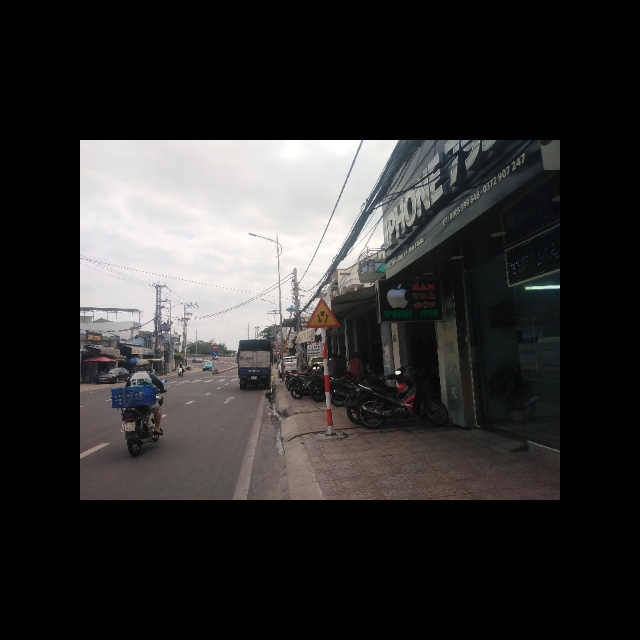Đường đôi: (305, 296, 341, 329)
